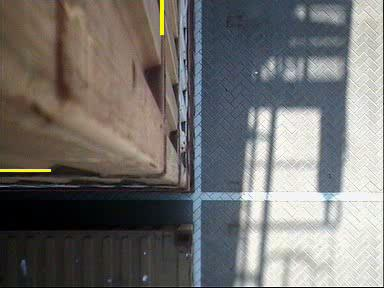groundmarker_2: (3, 48, 131, 135)
